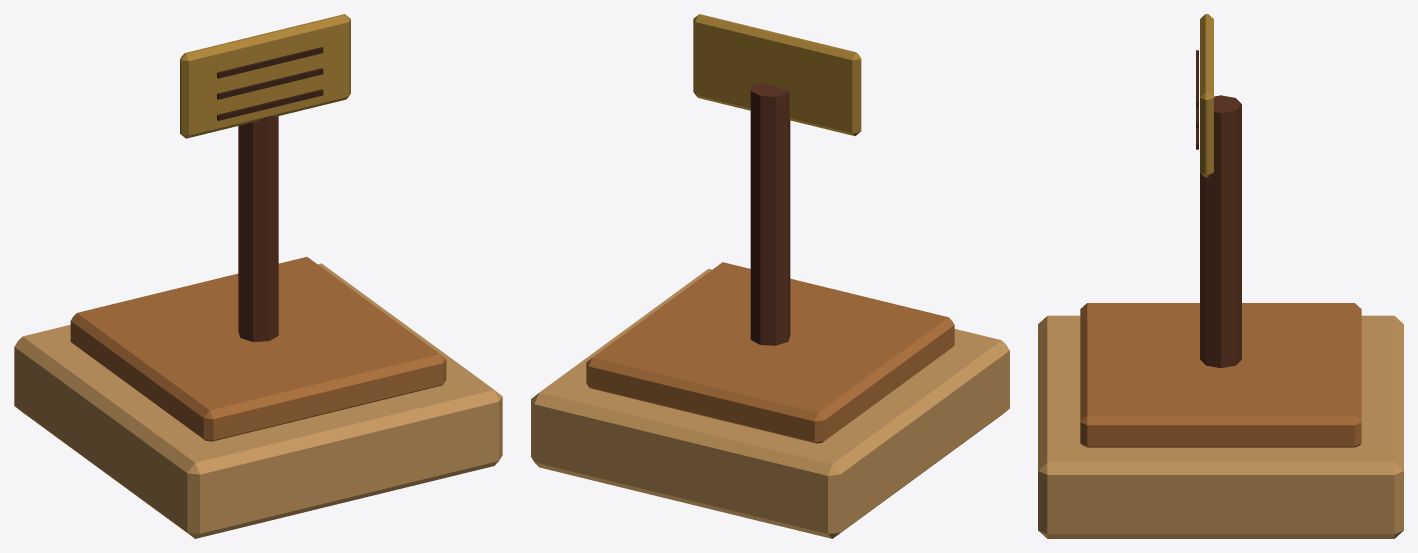
File: wing.glb
3 views of the same model, side by side, from view 1: azimuth 30°, elevation 25°; view 2: azimuth 150°, elevation 25°; view 3: azimuth 270°, elevation 25° (orthographic). The views are drawn at different scales.
Parts seen in each view (by area): view 1: Base_mesh, Post_mesh; view 2: Base_mesh, Post_mesh; view 3: Base_mesh, Post_mesh.
Boxes of the visible parts, box(x1,y1,x2,y2) form: Base_mesh: box(14, 257, 502, 538); Post_mesh: box(180, 14, 350, 341); Base_mesh: box(531, 262, 1009, 538); Post_mesh: box(693, 14, 861, 345); Base_mesh: box(1038, 303, 1403, 538); Post_mesh: box(1196, 14, 1241, 368).
Bounding box in the file's own units: 0.78 × 0.97 × 0.78.
